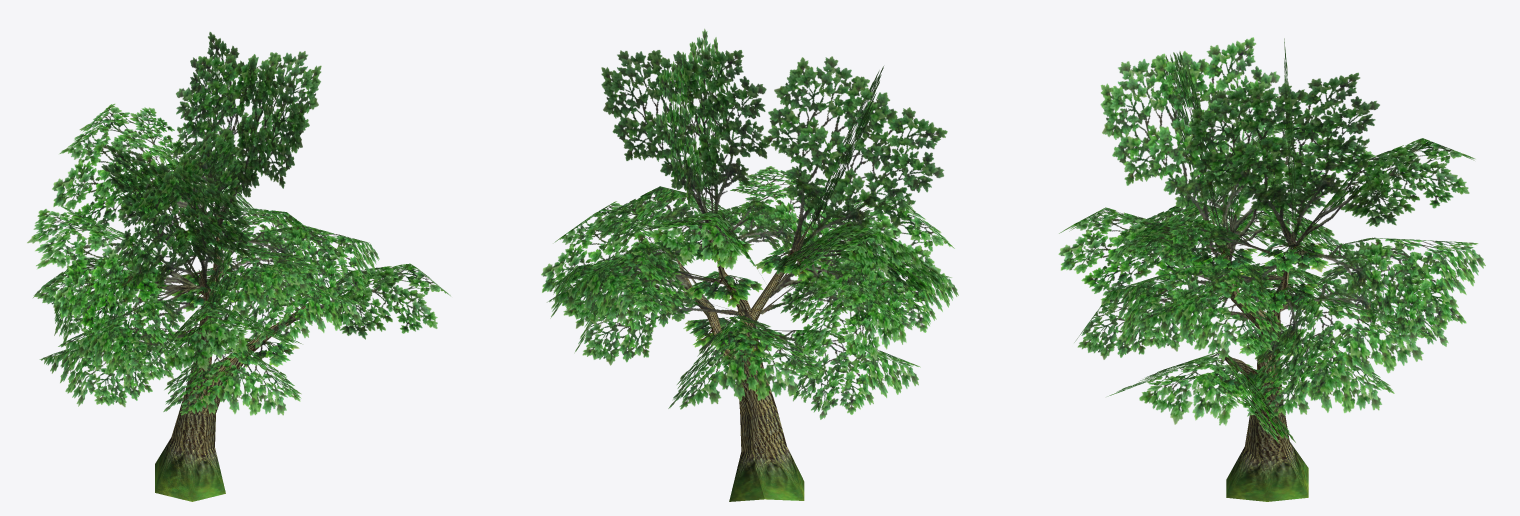
Rendered from tree6_11.glb.
3 renders of one model, left to right at view 1: azimuth 30°, elevation 25°; view 2: azimuth 150°, elevation 25°; view 3: azimuth 270°, elevation 25°, orthographic. The views are drawn at different scales.
Parts seen in each view (by area): view 1: tree6_11; view 2: tree6_11; view 3: tree6_11.
Boxes of the visible parts, <box> form: tree6_11: <box>27,32,450,501</box>; tree6_11: <box>541,29,958,501</box>; tree6_11: <box>1058,37,1485,501</box>.
Size of the model in its own units: 12.11 by 11.69 by 10.9.
Materials: 5 (5 with a texture image).
